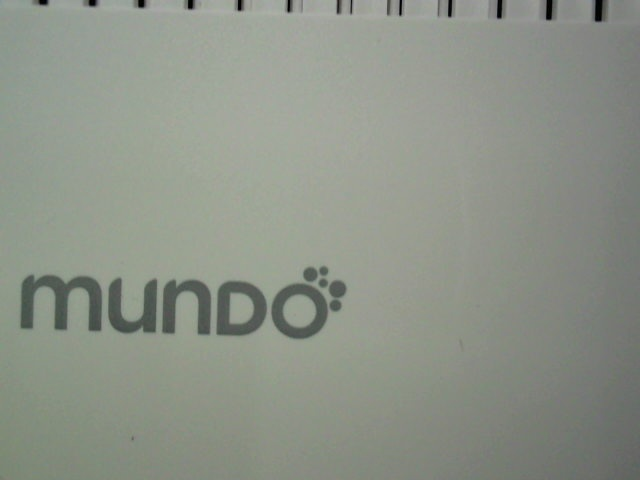BI_MUNDO: (7, 254, 354, 353)
